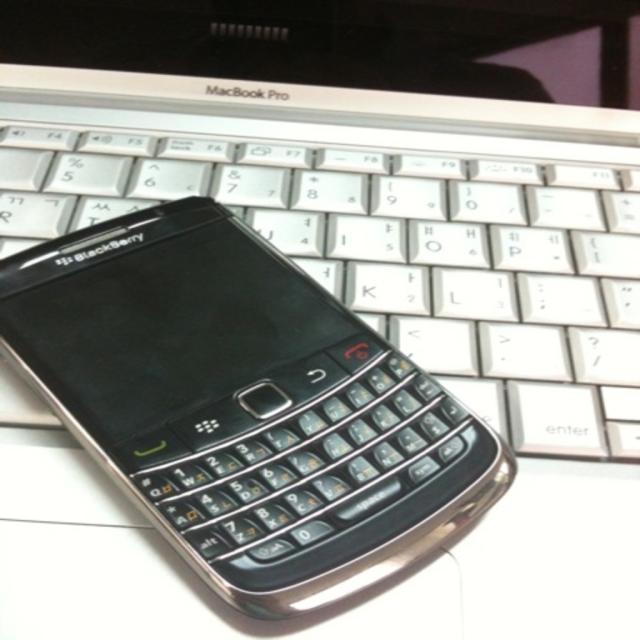Mobile-phone: (5, 171, 519, 624)
